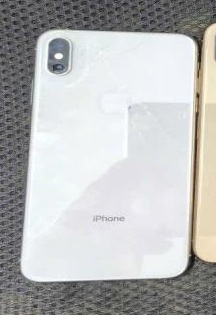physical_damage: (110, 80, 189, 153), (35, 31, 128, 79), (130, 34, 169, 64)
